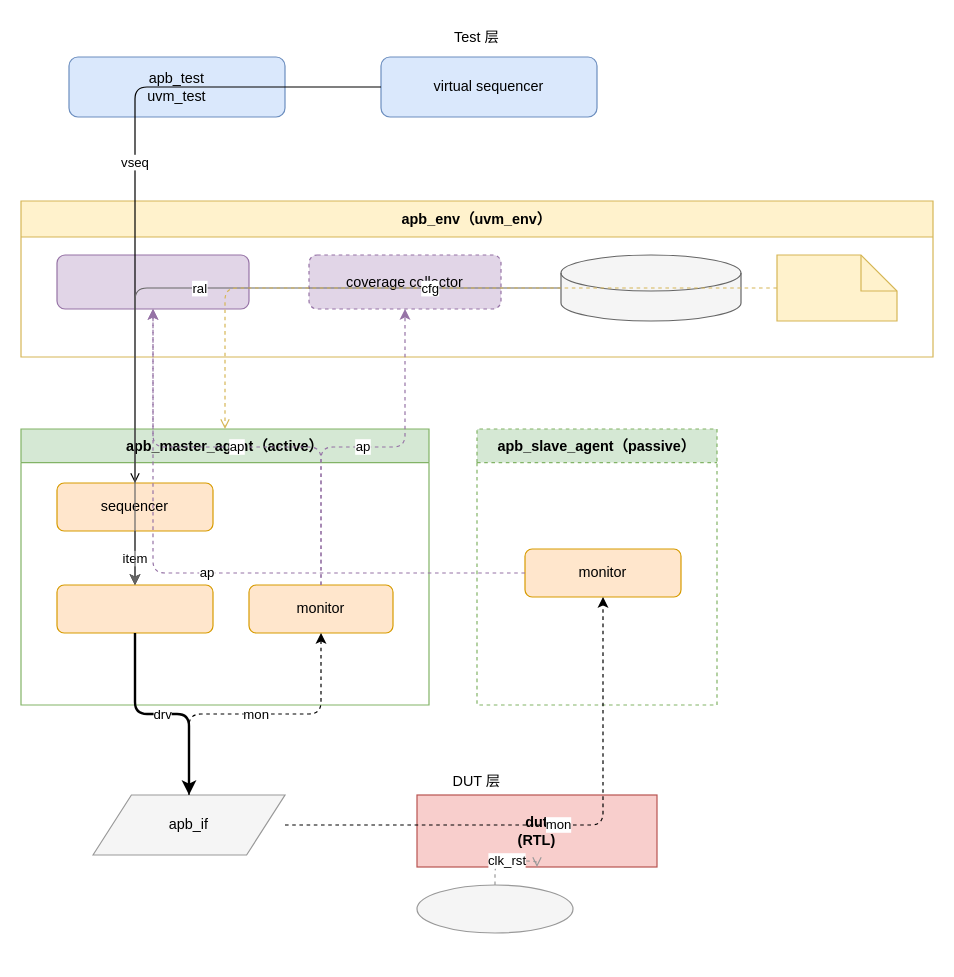
This 954x977 diagram has some shape labels left out. The shapes that lost their labels are listed below. From the top down, each one's centre as x and y in pixels, then its label:
At [152,281]: "scoreboard".
At [650,287]: "RAL model".
At [836,287]: "env config".
At [134,608]: "driver".
At [494,908]: "clk / rst".
